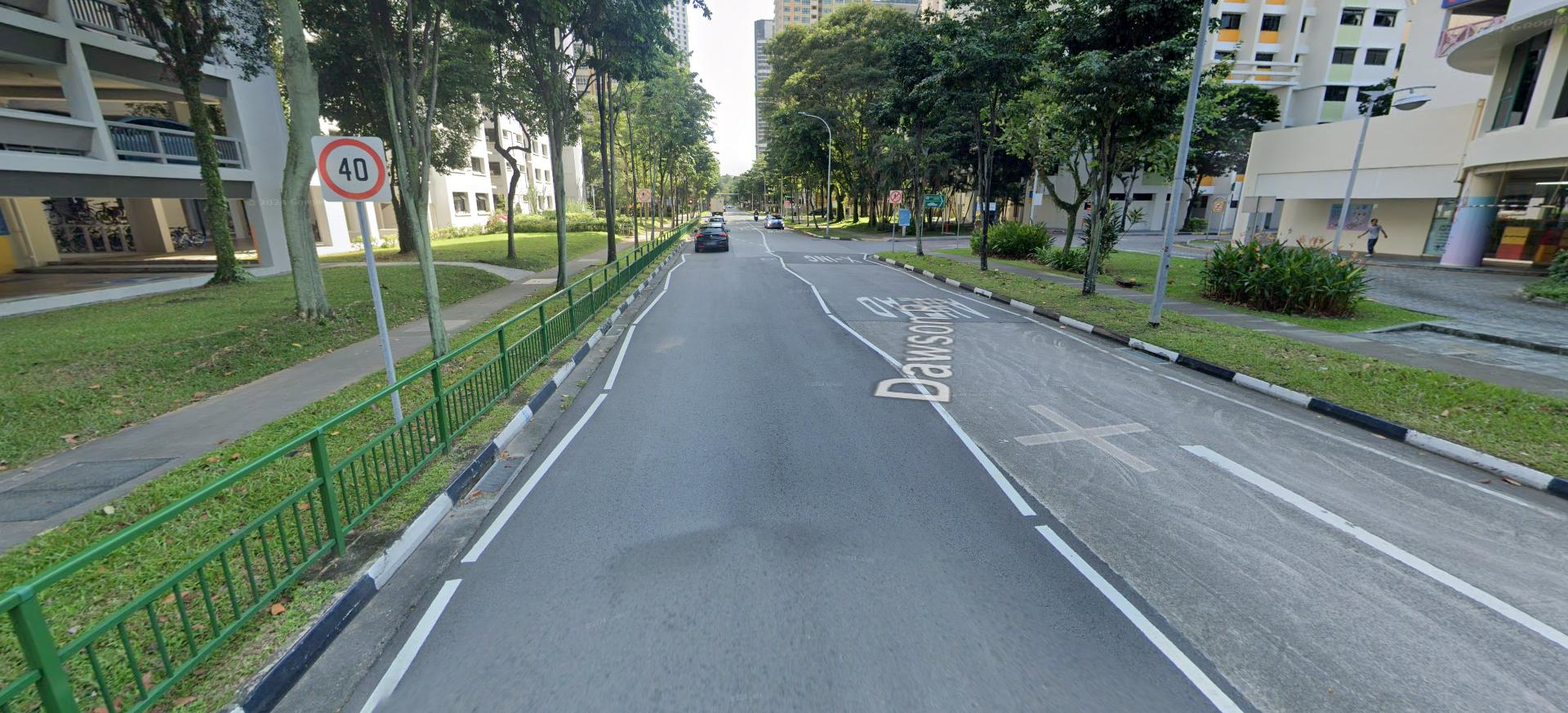normal: (466, 455, 527, 501)
